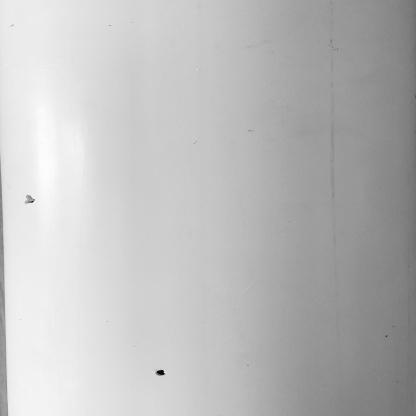kongdong: (21, 192, 42, 208), (150, 367, 175, 379)
